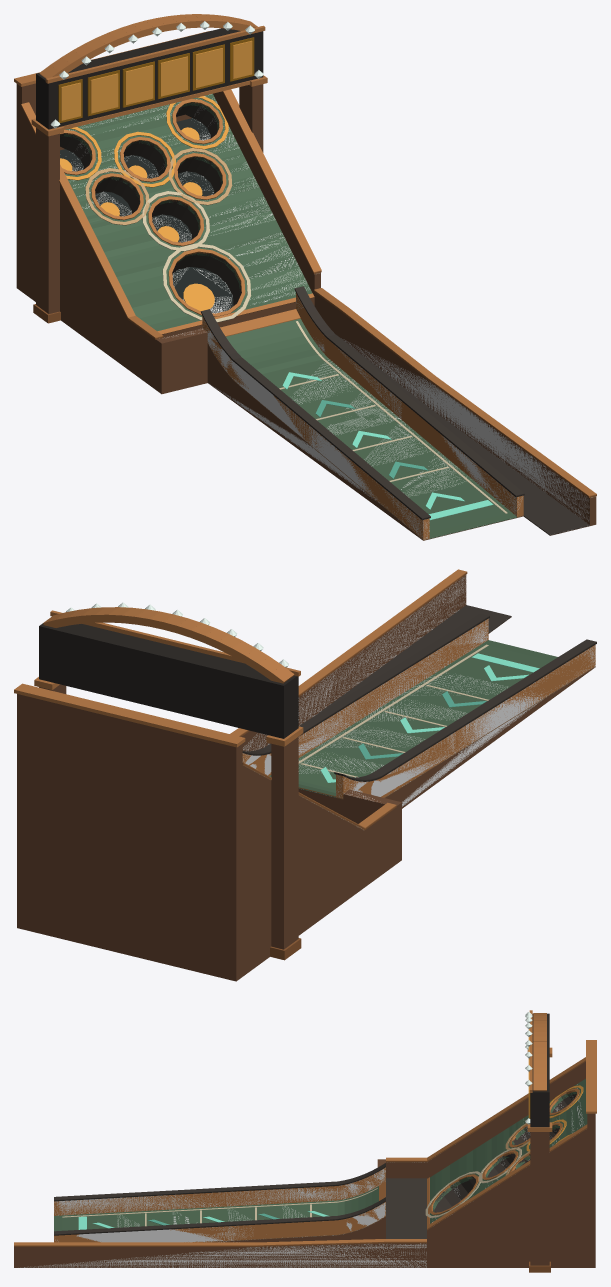
The model's file is camp_skee_lane.glb.
3 renders of one model, top to bottom at view 1: azimuth 30°, elevation 25°; view 2: azimuth 150°, elevation 25°; view 3: azimuth 270°, elevation 25°, orthographic. The views are drawn at different scales.
Visible parts, largest first — view 1: Body, camp_skee_lane-col-col; view 2: Body, camp_skee_lane-col-col; view 3: Body, camp_skee_lane-col-col.
Part boxes in pixels (x1,y1,x2,y2): Body: [14, 14, 596, 540]; camp_skee_lane-col-col: [69, 94, 592, 539]; Body: [14, 569, 596, 981]; camp_skee_lane-col-col: [243, 575, 595, 828]; Body: [14, 1010, 596, 1272]; camp_skee_lane-col-col: [20, 1084, 584, 1267].
Bounding box in the file's own units: 13.8 × 16.23 × 42.33.
